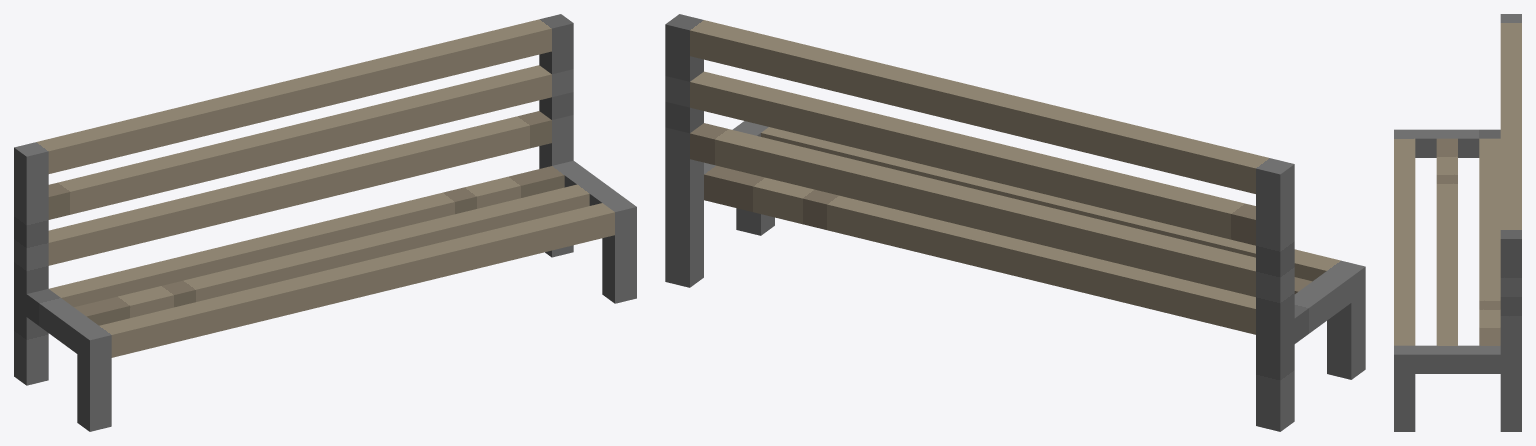
File: parkbench1.obj
3 renders of one model, left to right at view 1: azimuth 30°, elevation 25°; view 2: azimuth 150°, elevation 25°; view 3: azimuth 270°, elevation 25°, orthographic. The views are drawn at different scales.
Parts seen in each view (by area): view 1: Box_37; view 2: Box_37; view 3: Box_37.
Part boxes in pixels (left/top/right/bottom): Box_37: left=14, top=14, right=636, bottom=431; Box_37: left=665, top=14, right=1365, bottom=431; Box_37: left=1394, top=14, right=1521, bottom=431.
Size of the model in its own units: 25 by 10 by 6.
1 material, 1 textured.
